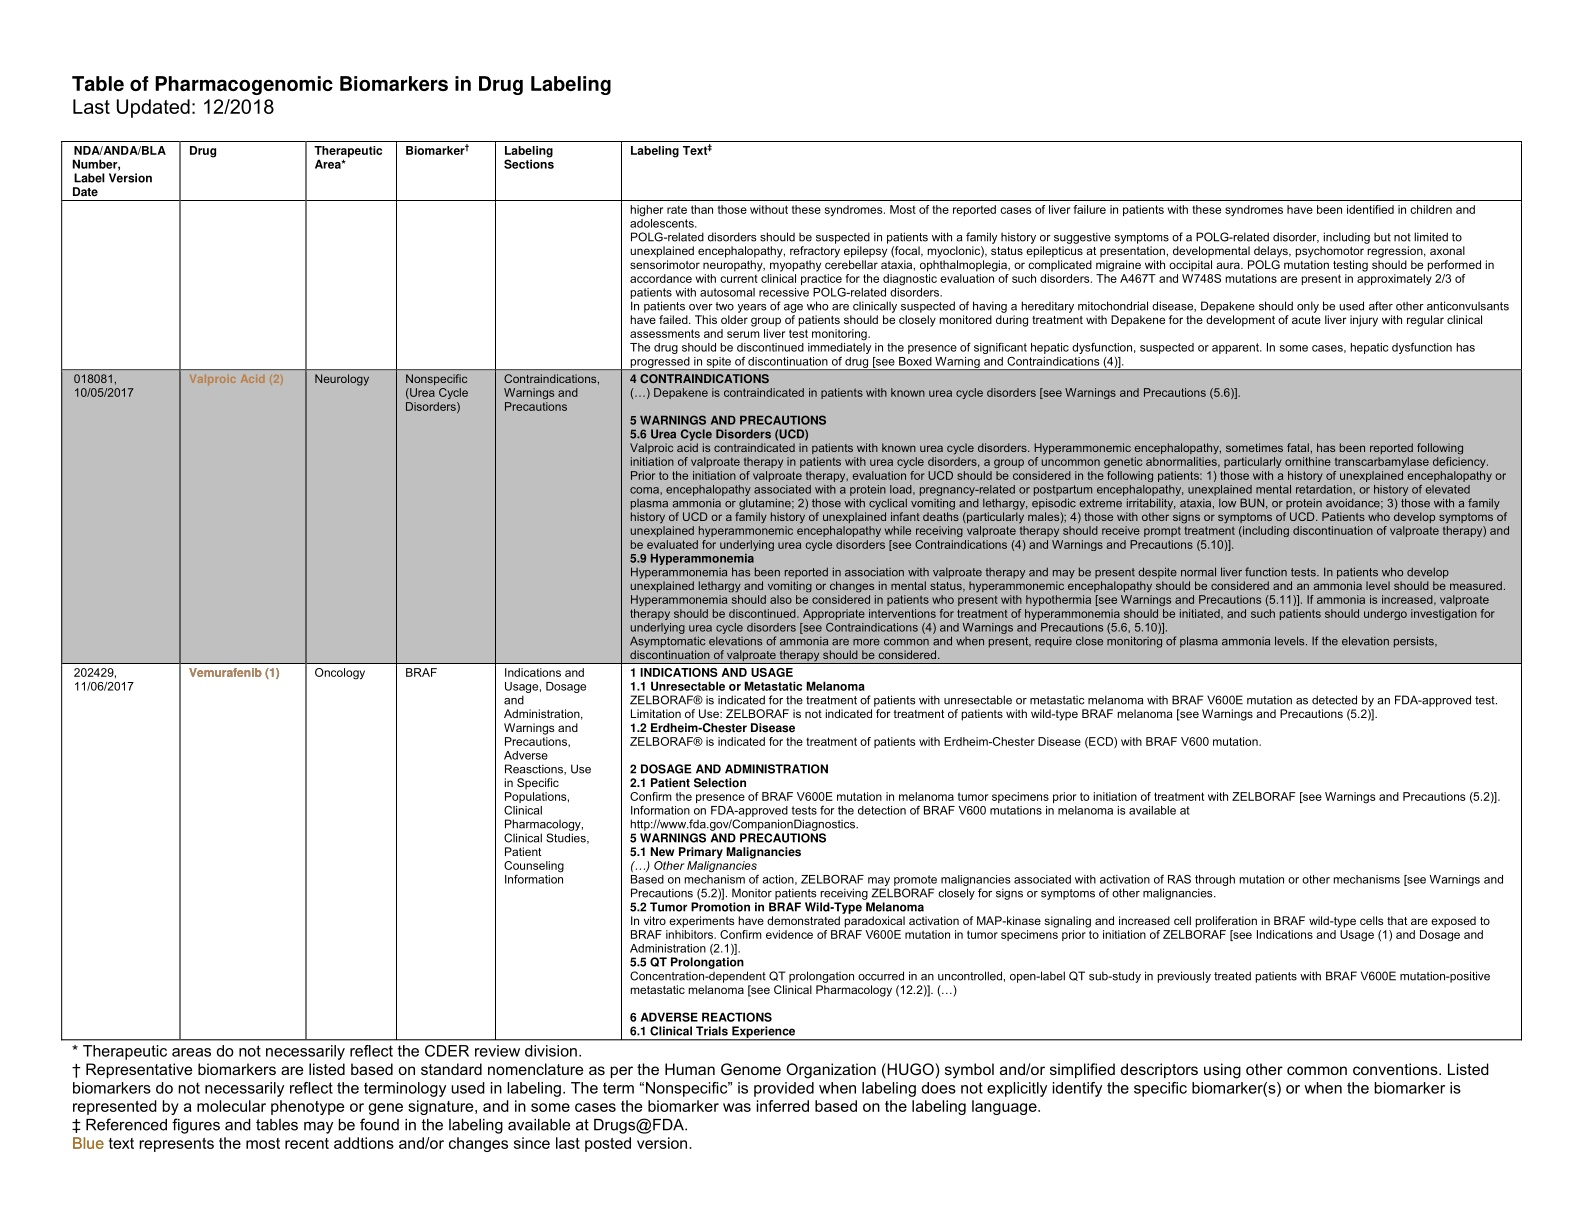full_lined: (60, 140, 1522, 1041)
